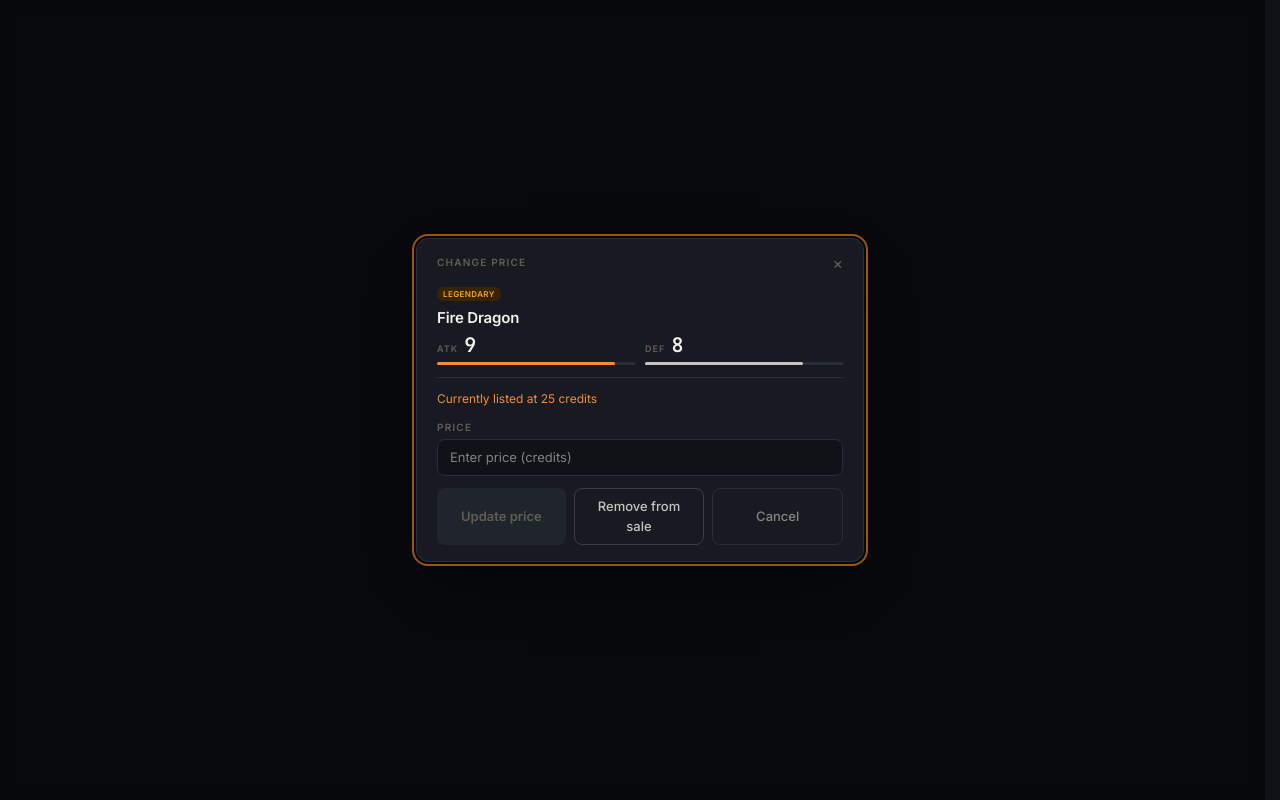
SetPriceModal › removes a card from sale and closes after success
The width and height of the screenshot is (1280, 800).
Click the button "Remove from sale" at [639, 517], box [574,488,704,545]
Wait 700 ms
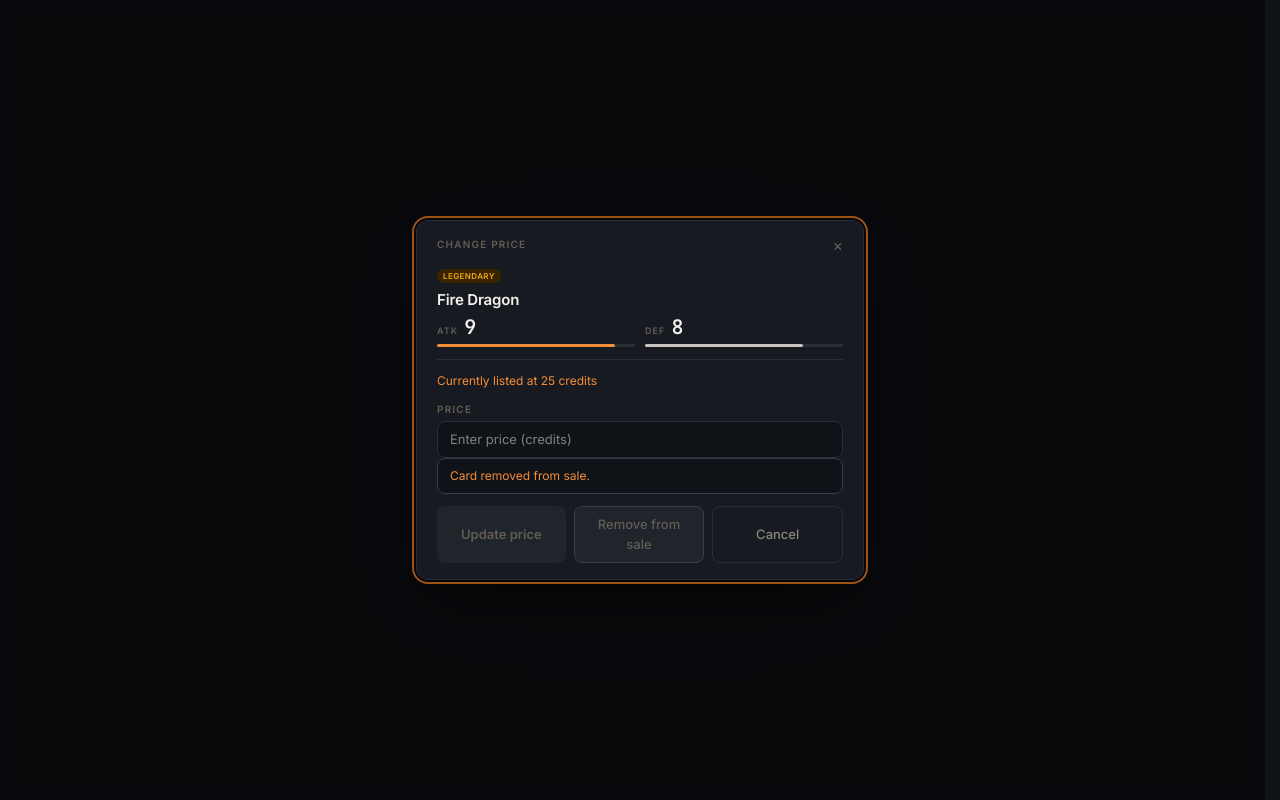
Result: the message reads "Card removed from sale." at [450,468,590,483]
